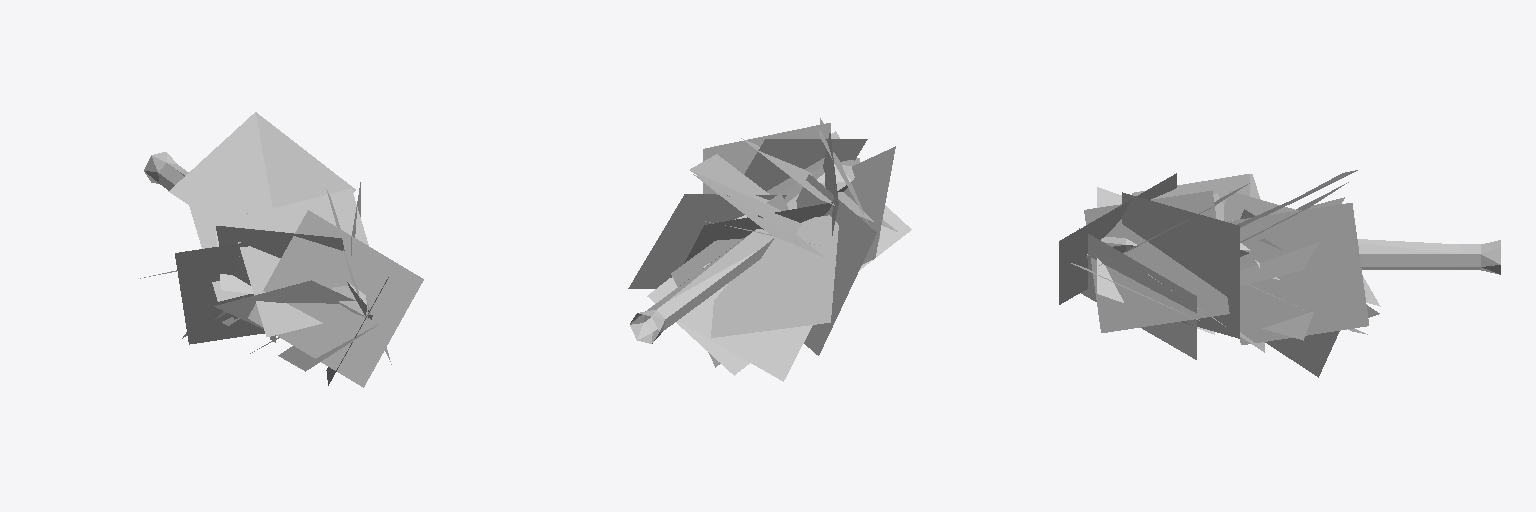
The model's file is tree.obj.
3 renders of one model, left to right at view 1: azimuth 30°, elevation 25°; view 2: azimuth 150°, elevation 25°; view 3: azimuth 270°, elevation 25°, orthographic.
Size of the model in its own units: 115 by 121 by 230.